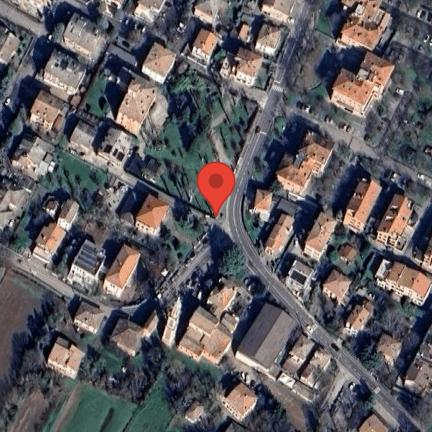area_open: (335, 0, 389, 50), (331, 374, 358, 425), (286, 212, 312, 253), (105, 181, 134, 215), (107, 43, 136, 70), (120, 14, 149, 33), (170, 22, 190, 37)
built: (179, 278, 250, 366), (235, 301, 295, 371), (331, 53, 394, 119), (277, 131, 335, 194), (30, 198, 81, 266), (372, 254, 432, 304), (398, 320, 432, 399), (115, 73, 158, 134), (109, 307, 159, 357), (375, 193, 415, 253), (259, 197, 299, 254), (40, 47, 87, 93), (342, 177, 381, 232), (66, 237, 106, 290), (58, 12, 104, 58), (23, 88, 65, 136), (12, 136, 54, 184), (104, 244, 142, 296), (217, 46, 260, 86), (303, 210, 336, 260), (47, 335, 84, 379), (0, 177, 27, 235), (339, 295, 375, 337), (142, 42, 177, 83), (223, 380, 257, 421), (282, 258, 315, 300), (280, 336, 314, 375), (298, 345, 332, 384), (137, 195, 170, 234), (320, 265, 353, 304), (0, 0, 55, 22), (98, 128, 131, 163), (67, 114, 98, 150), (189, 26, 217, 64), (163, 295, 183, 346), (282, 372, 316, 402), (117, 191, 146, 225), (374, 330, 402, 364), (74, 303, 105, 333), (254, 0, 298, 21), (131, 0, 166, 26), (0, 20, 21, 62), (188, 1, 223, 26), (250, 185, 275, 219), (254, 24, 280, 55), (338, 240, 361, 268), (359, 414, 389, 432), (99, 0, 124, 19), (231, 20, 253, 41), (42, 193, 61, 216), (185, 401, 204, 423), (145, 157, 158, 173), (212, 209, 221, 220)
vegetation_high: (1, 297, 68, 423), (80, 346, 190, 408), (356, 309, 421, 377), (220, 387, 299, 431), (173, 75, 212, 135), (367, 280, 425, 316), (0, 105, 24, 171), (183, 372, 224, 410), (219, 242, 244, 280), (0, 66, 16, 100), (413, 402, 432, 427)
vegetation_low: (0, 254, 196, 432), (6, 144, 212, 309), (279, 0, 432, 175), (118, 67, 266, 220), (228, 359, 372, 432), (239, 110, 308, 244), (312, 186, 398, 287), (314, 143, 431, 215), (79, 53, 128, 123), (303, 287, 347, 333), (214, 0, 242, 62), (176, 399, 222, 431), (166, 0, 194, 46)
